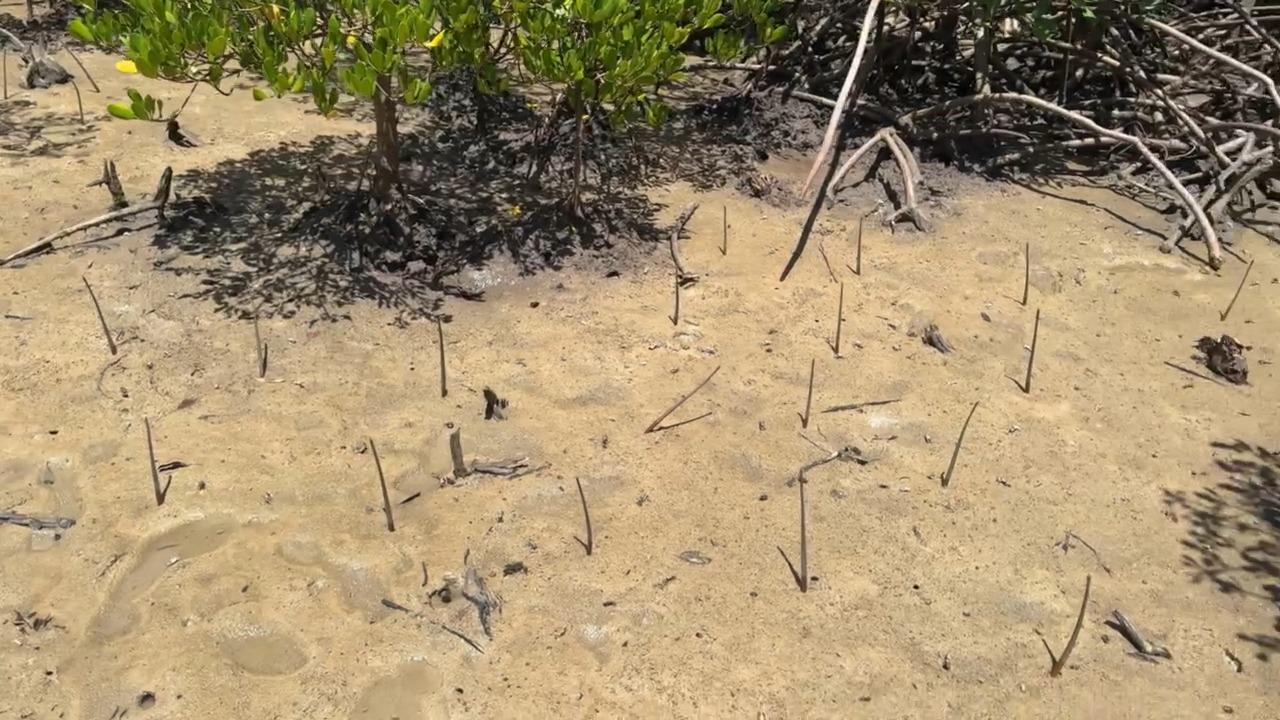Tree: (645, 366, 722, 434), (1050, 573, 1092, 678), (942, 401, 980, 486), (81, 274, 117, 355), (369, 439, 395, 532), (58, 40, 100, 93), (1221, 258, 1255, 321), (247, 287, 265, 378), (145, 417, 163, 506), (1025, 308, 1040, 395), (577, 477, 593, 556), (799, 469, 808, 592), (803, 358, 815, 429), (437, 317, 447, 399), (1021, 242, 1031, 306), (71, 81, 86, 122), (836, 280, 844, 354), (856, 217, 863, 276), (674, 267, 679, 326), (3, 48, 7, 100), (723, 205, 727, 255)
